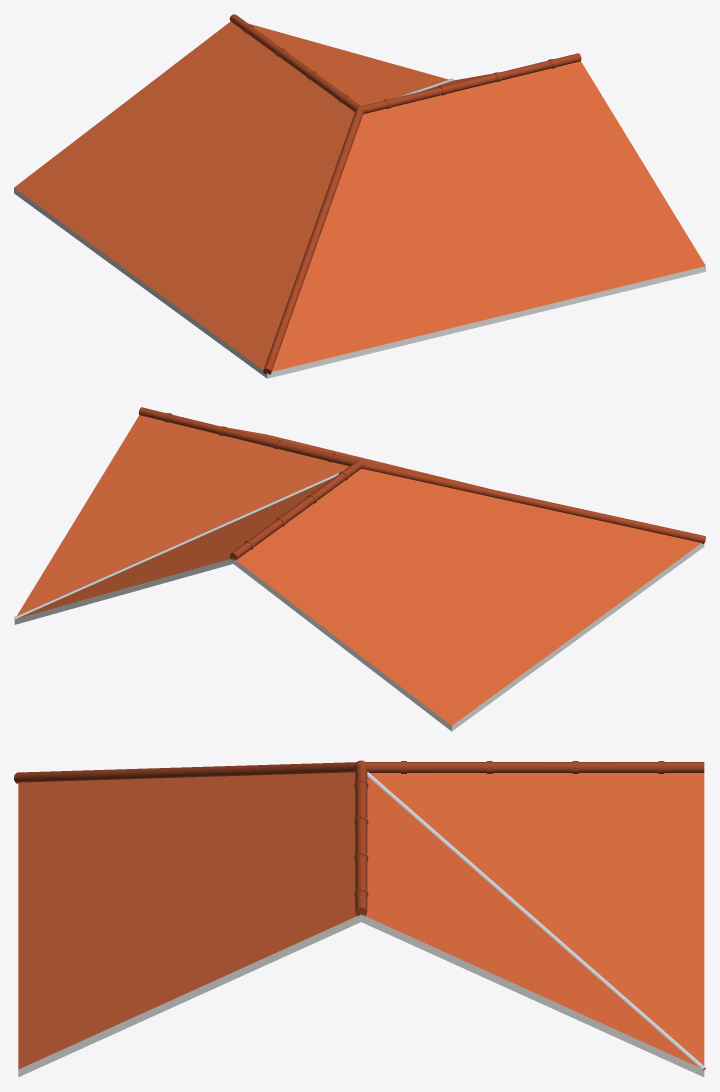
File: telhado_canto_l_v8_i50.glb
The picture shows the model from 3 angles, top to bottom: view 1: azimuth 30°, elevation 25°; view 2: azimuth 150°, elevation 25°; view 3: azimuth 270°, elevation 25°; orthographic projection. The views are drawn at different scales.
Visible parts, largest first — view 1: telhado_canto_l_v8_i50; view 2: telhado_canto_l_v8_i50; view 3: telhado_canto_l_v8_i50.
Boxes of the visible parts, left/top/right/bottom form: telhado_canto_l_v8_i50: left=14, top=14, right=705, bottom=378; telhado_canto_l_v8_i50: left=14, top=407, right=705, bottom=731; telhado_canto_l_v8_i50: left=14, top=760, right=705, bottom=1077.
Size of the model in its own units: 8.07 by 2.21 by 8.07.
Materials: 4 (1 with a texture image).
